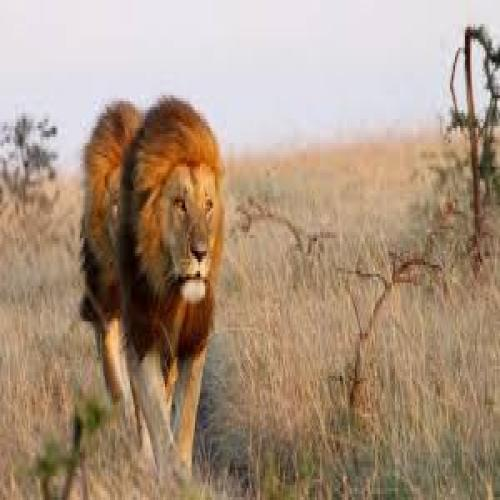lion-endangered: (118, 95, 222, 483), (78, 101, 144, 411)
